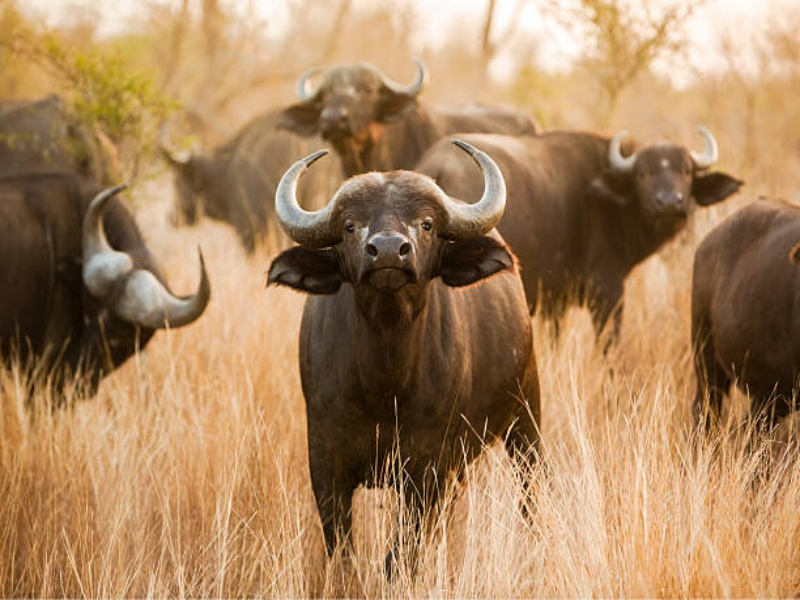buffalo: (242, 134, 561, 575)
